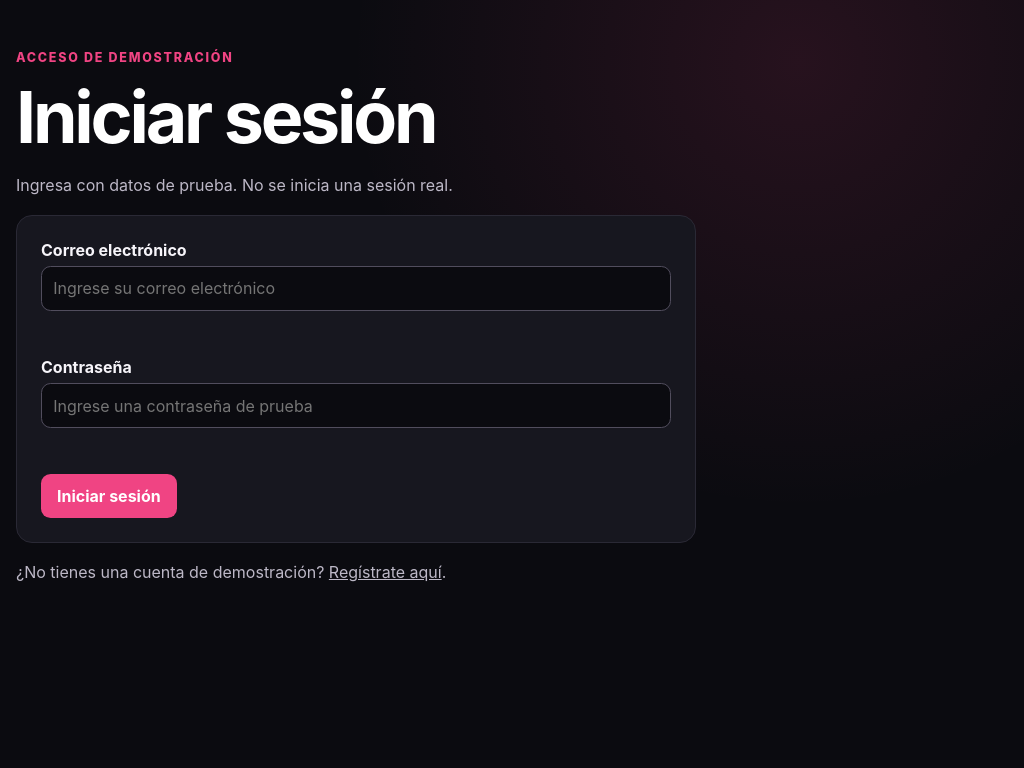
InicioSesionPage › muestra el error al enviar el correo vacío
Click the button "Iniciar sesión" at coordinates (109, 496), box [41, 474, 177, 518]
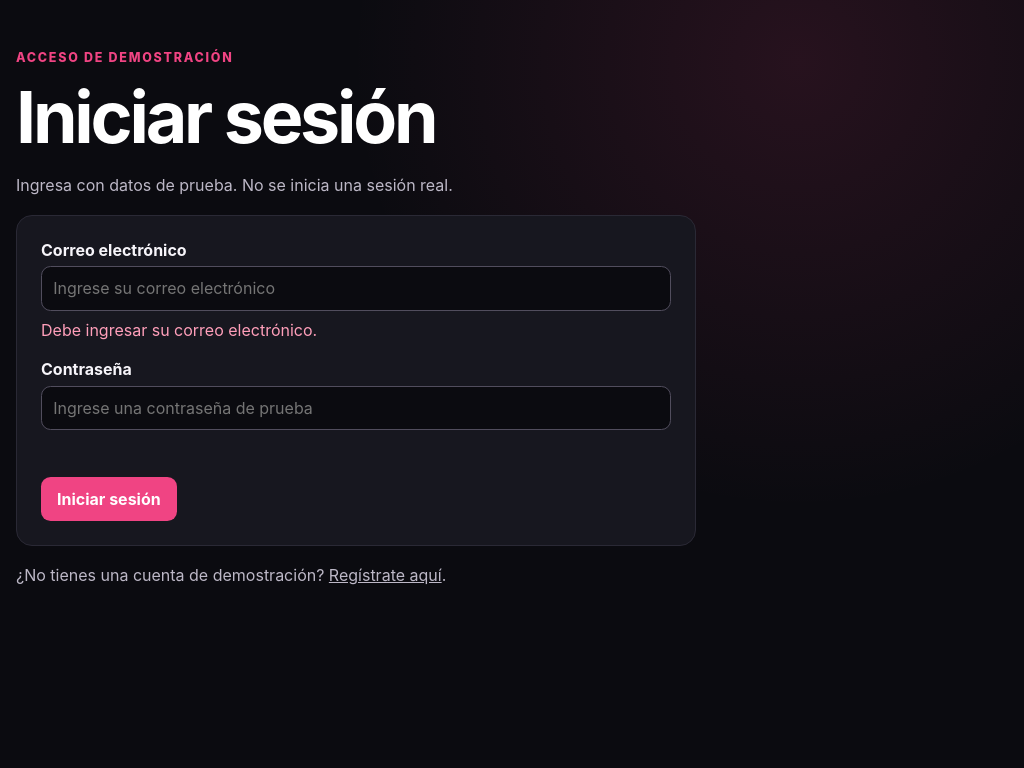
Check: the text "Debe ingresar su correo electrónico." is shown, box [41, 320, 317, 340]
